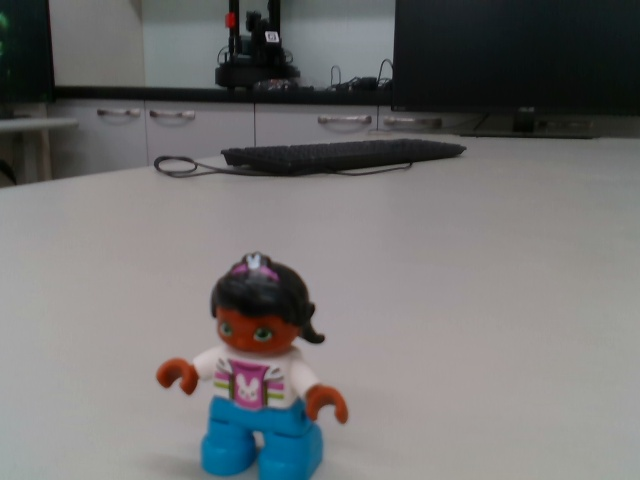people: (155, 249, 354, 480)
